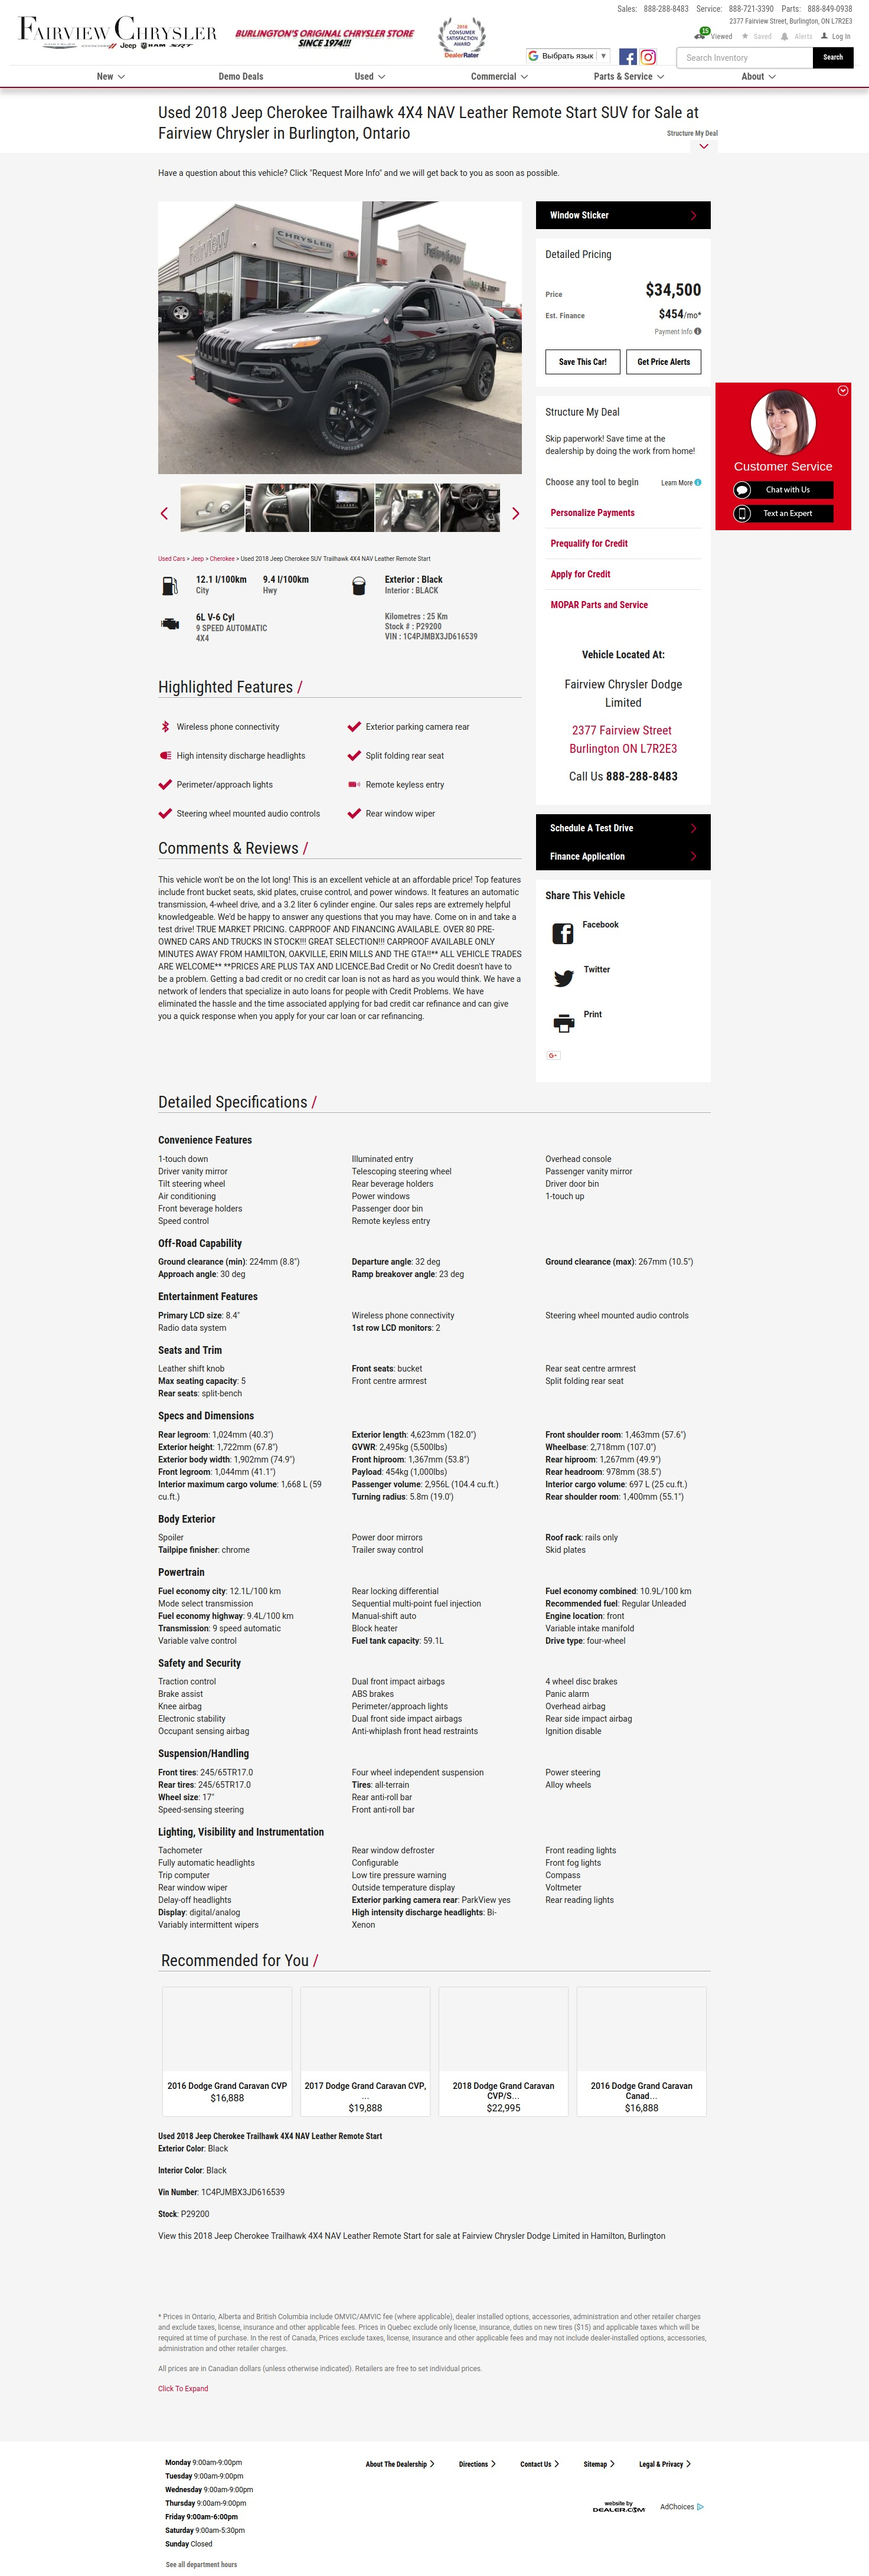car: (513, 508, 521, 521)
